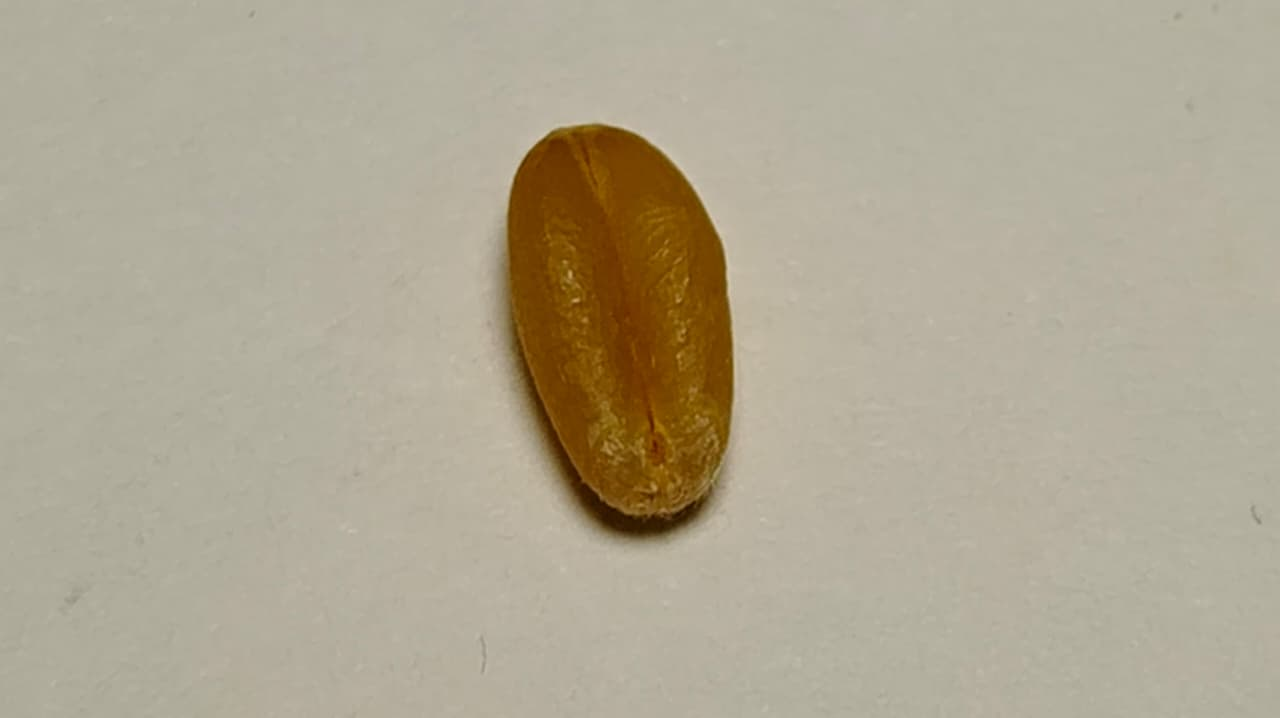healthy: (509, 125, 733, 515)
